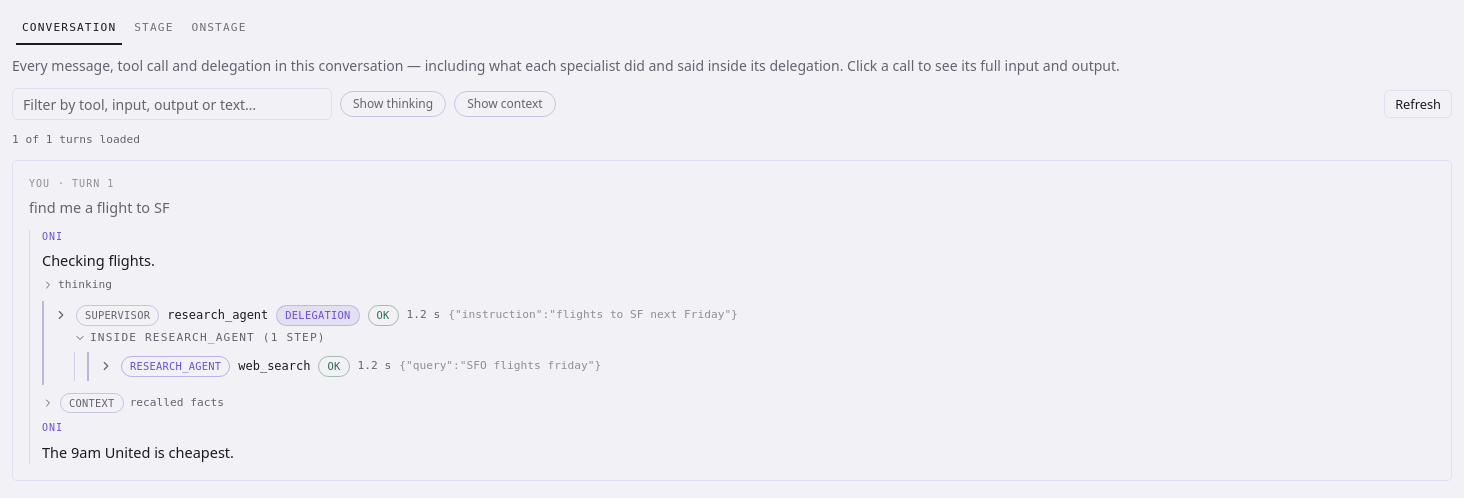
Test: HistoryPanel tabs › doesn't pull Stage's logs until someone opens the Stage tab
The width and height of the screenshot is (1464, 498).
Expected: the text "find me a flight to SF" is shown, [29,197,169,217]
Click the tab "Stage": x=154, y=28 [127,16,181,40]
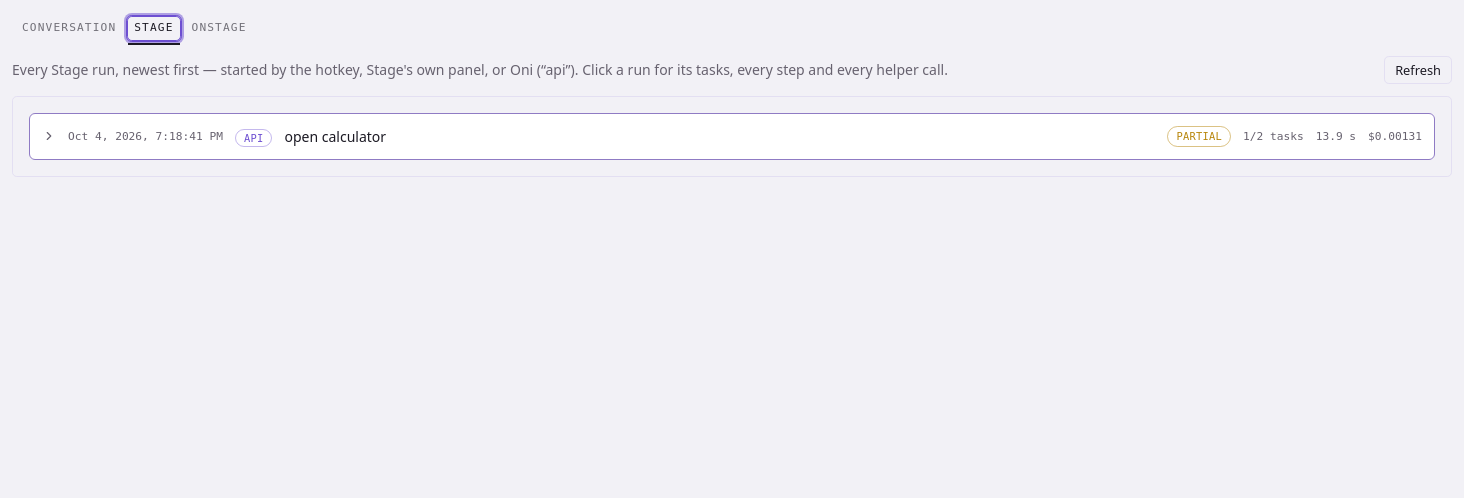
Expected: the text "open calculator" is shown, [284,126,386,145]
